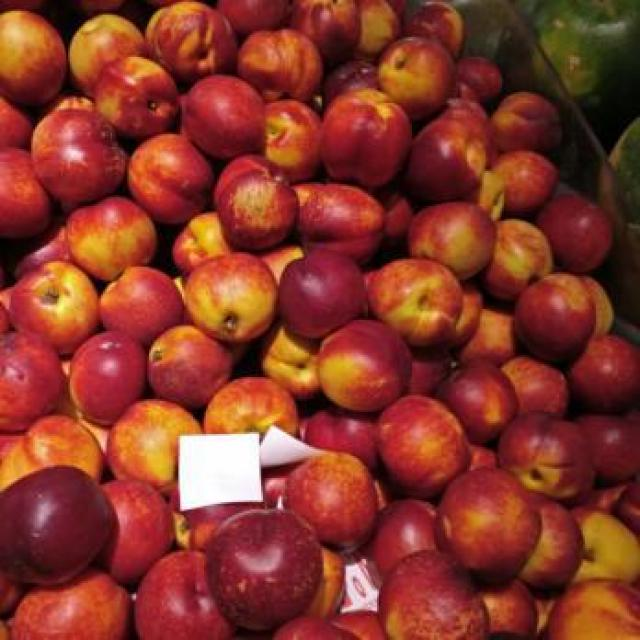Nectarine: (212, 509, 324, 631), (436, 471, 539, 572), (318, 90, 412, 190), (33, 110, 127, 202), (320, 318, 410, 412), (281, 252, 366, 342), (188, 259, 278, 344), (515, 272, 598, 361), (70, 196, 160, 278), (180, 77, 267, 160), (70, 331, 147, 423), (410, 202, 497, 274), (222, 173, 300, 248)
